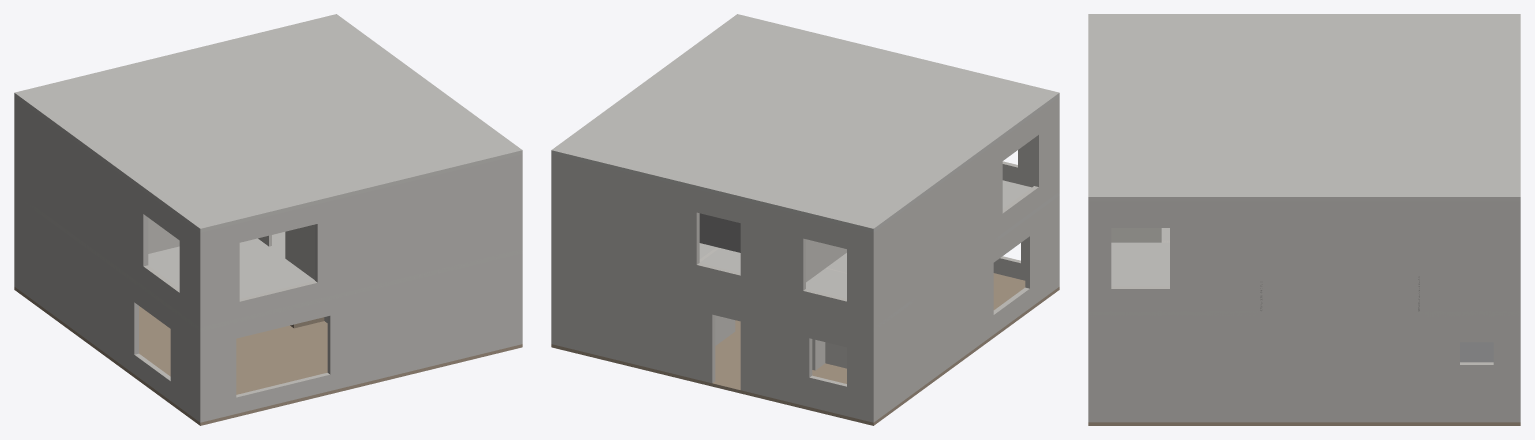
The model's file is villa_2f.glb.
3 views of the same model, side by side, from view 1: azimuth 30°, elevation 25°; view 2: azimuth 150°, elevation 25°; view 3: azimuth 270°, elevation 25° (orthographic). The views are drawn at different scales.
Parts seen in each view (by area): view 1: world; view 2: world; view 3: world.
Boxes of the visible parts, x1,y1,x2,y2 form: world: (14,14,522,425); world: (551,14,1059,425); world: (1088,14,1520,425).
Bounding box in the file's own units: 10.3 × 6.02 × 10.3.
